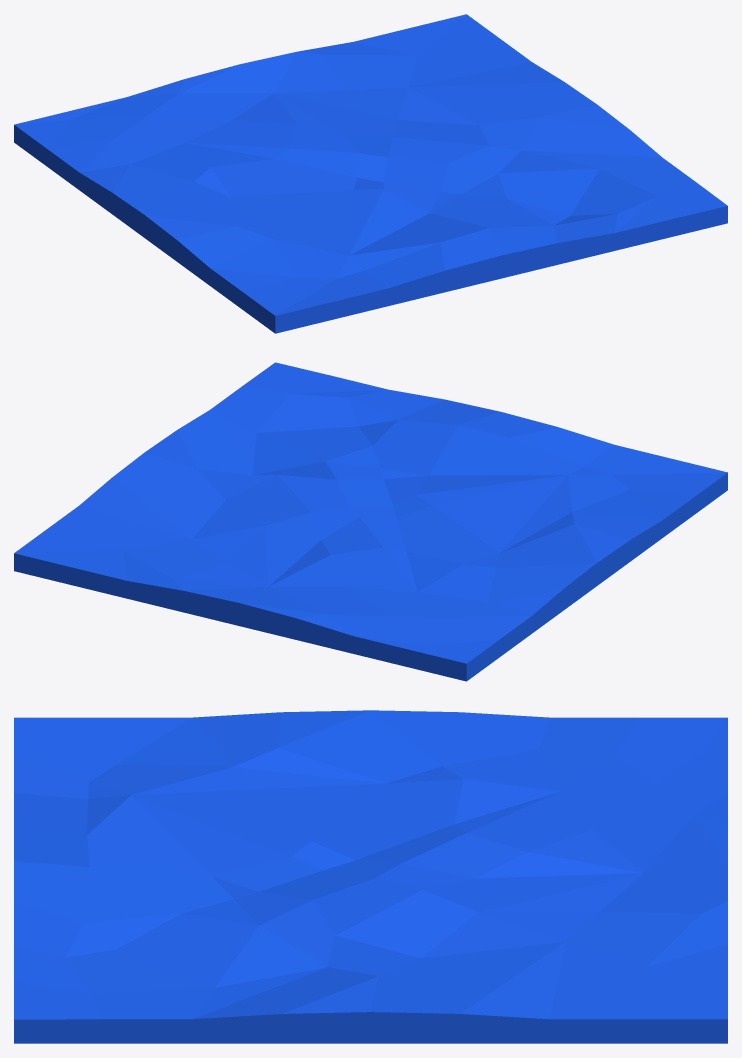
Rendered from Water.FBX.
3 views of the same model, one above another, from view 1: azimuth 30°, elevation 25°; view 2: azimuth 150°, elevation 25°; view 3: azimuth 270°, elevation 25° (orthographic). The views are drawn at different scales.
Parts seen in each view (by area): view 1: Mud; view 2: Mud; view 3: Mud.
Boxes of the visible parts, <box> form: Mud: <box>14,14,727,333</box>; Mud: <box>14,362,727,681</box>; Mud: <box>14,710,727,1043</box>.
Bounding box in the file's own units: 1.5 × 0.0837 × 1.5.
1 material, 1 textured.
